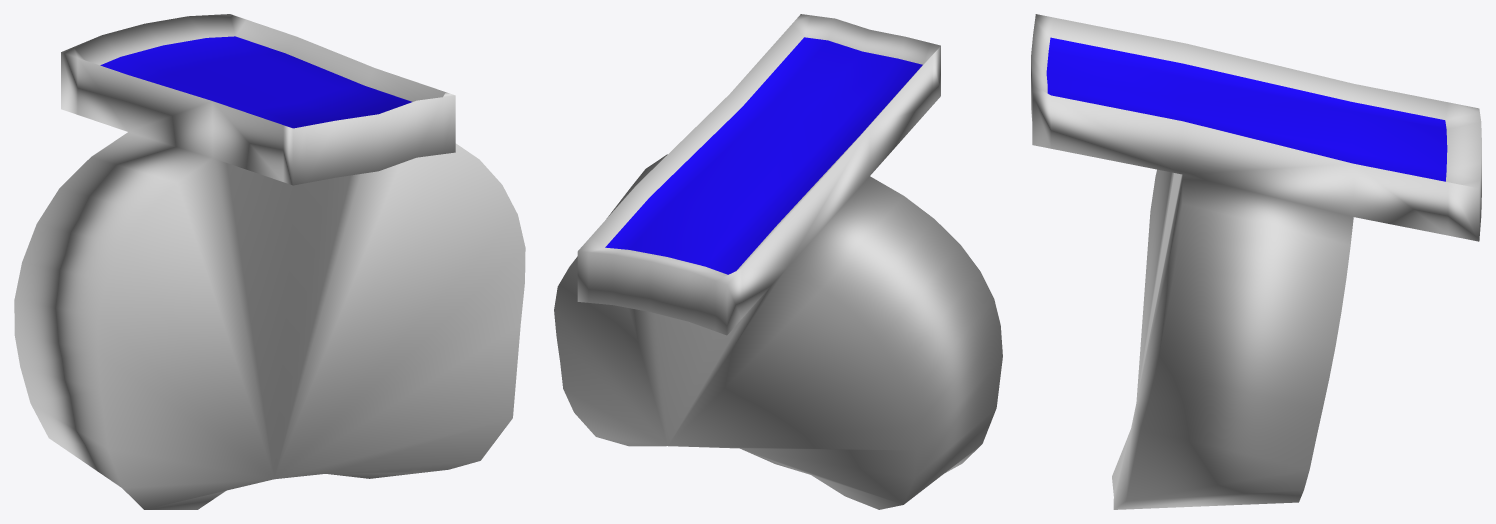
File: diverGadget.fbx
The picture shows the model from 3 angles, left to right: view 1: azimuth 30°, elevation 25°; view 2: azimuth 150°, elevation 25°; view 3: azimuth 270°, elevation 25°; orthographic projection. The views are drawn at different scales.
Visible parts, largest first — view 1: Cylinder.004; view 2: Cylinder.004; view 3: Cylinder.004.
Part boxes in pixels (x1,y1,x2,y2): Cylinder.004: (14, 14, 525, 509); Cylinder.004: (554, 14, 1002, 509); Cylinder.004: (1031, 14, 1481, 509).
Bounding box in the file's own units: 4 × 3.76 × 3.91.
